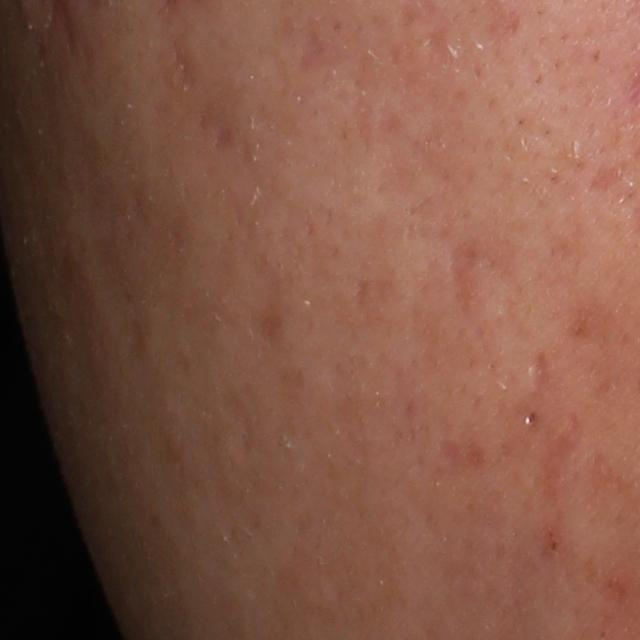atrophic_scar: (535, 417, 589, 500), (447, 233, 486, 319), (294, 23, 351, 75), (583, 155, 627, 201), (527, 348, 557, 402), (171, 47, 200, 98)
comedo: (524, 410, 538, 425)
